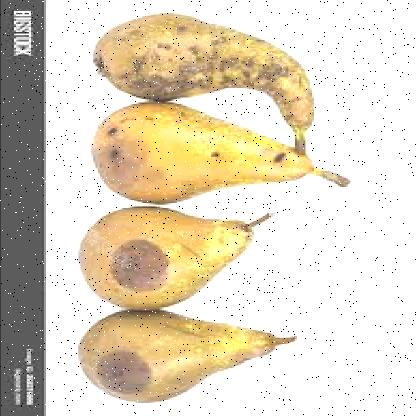damaged_apple: (90, 104, 324, 205), (72, 310, 304, 404), (73, 208, 289, 307), (94, 14, 310, 108)
